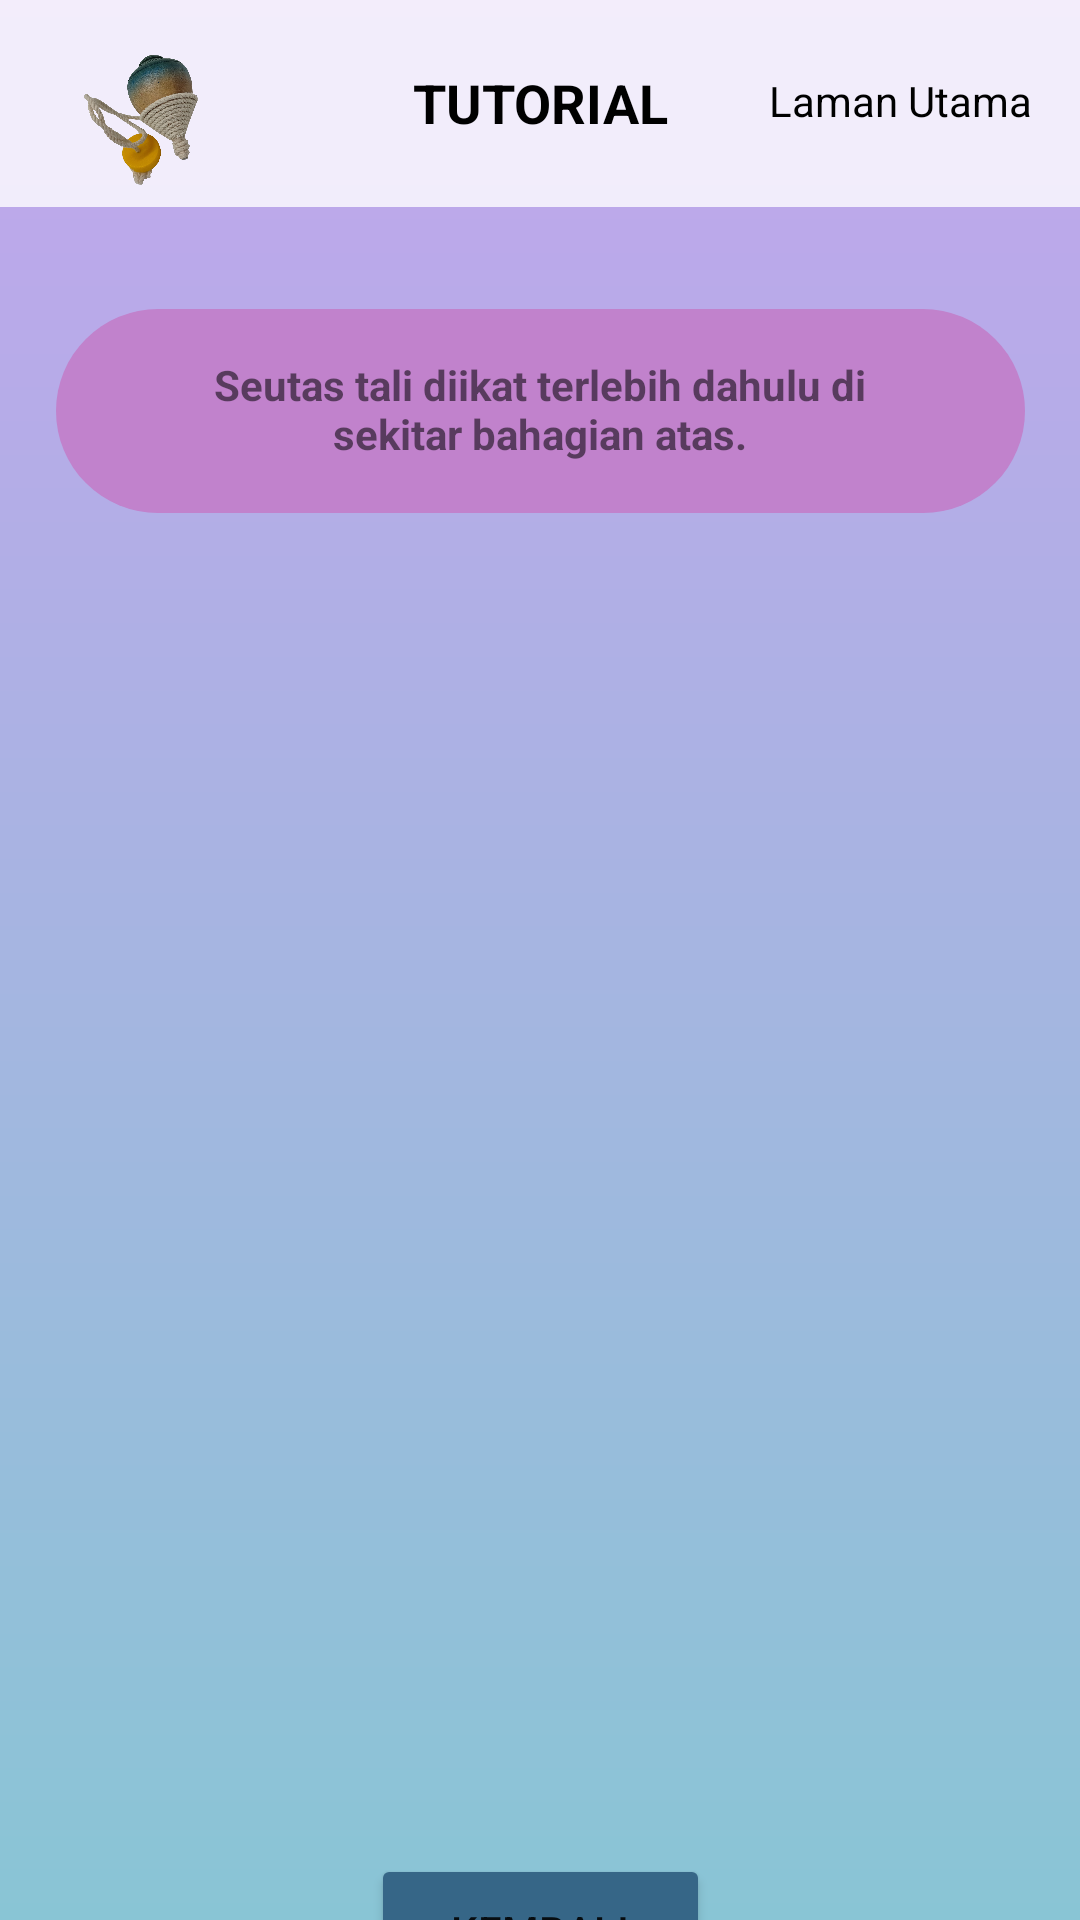

Icons on this 1080×1920 Android screen, each with its box as (left=x1, top=y1, right=x2, bottom=y2):
gasing: (left=84, top=55, right=198, bottom=185)
